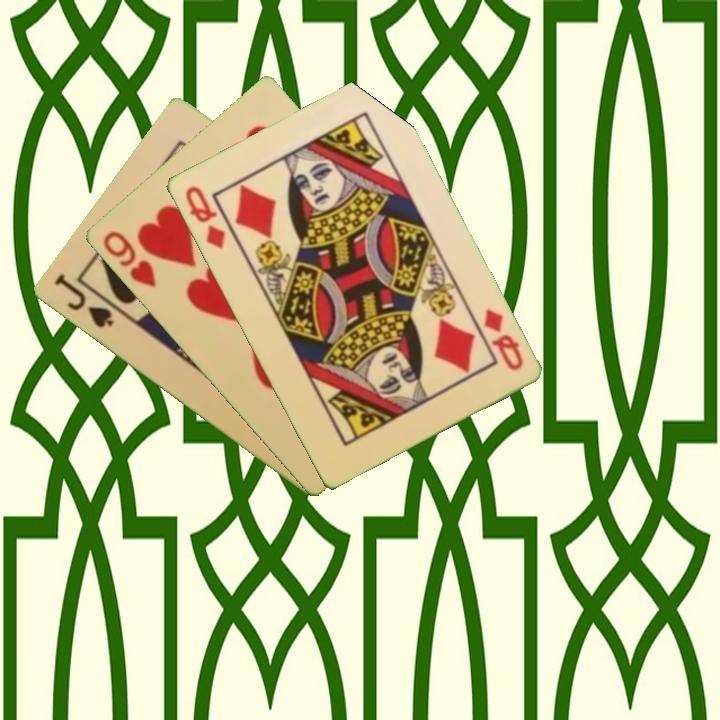9h: (99, 227, 159, 291)
Js: (49, 270, 116, 331)
Qd: (181, 181, 228, 252), (479, 305, 526, 374)
